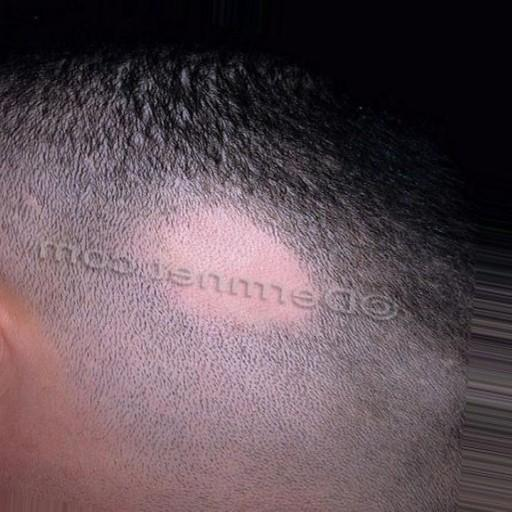Alopecia Areata: (113, 179, 301, 324)
